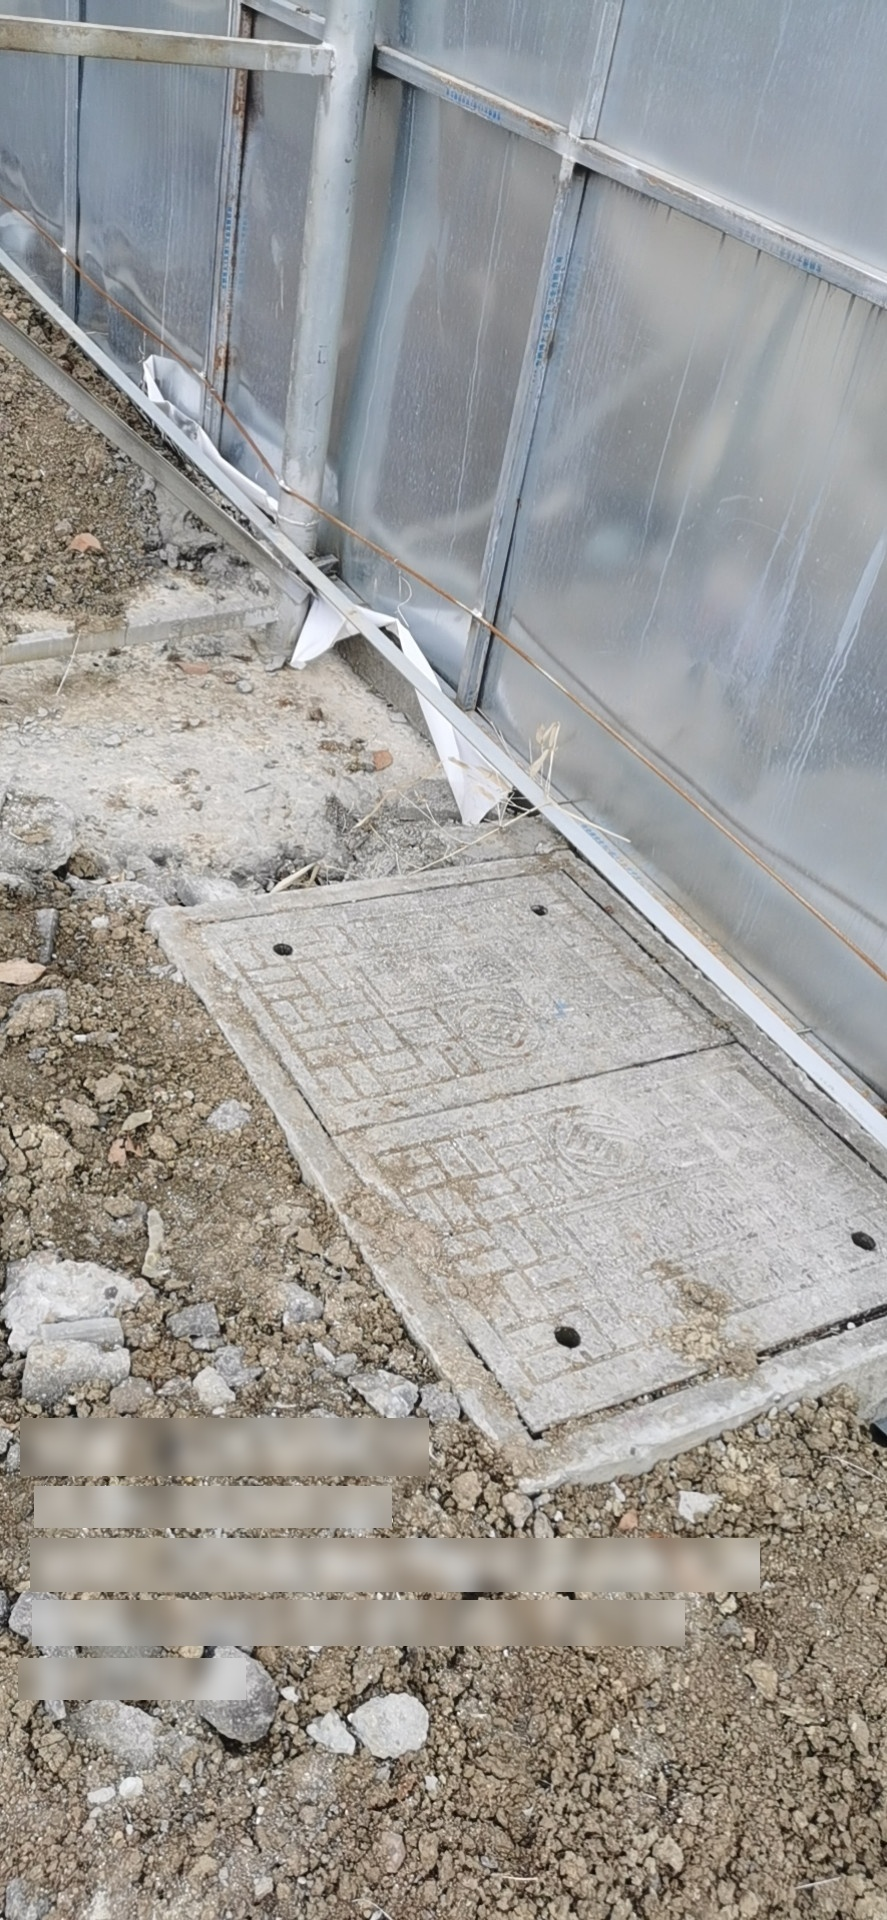well: (154, 824, 885, 1494)
